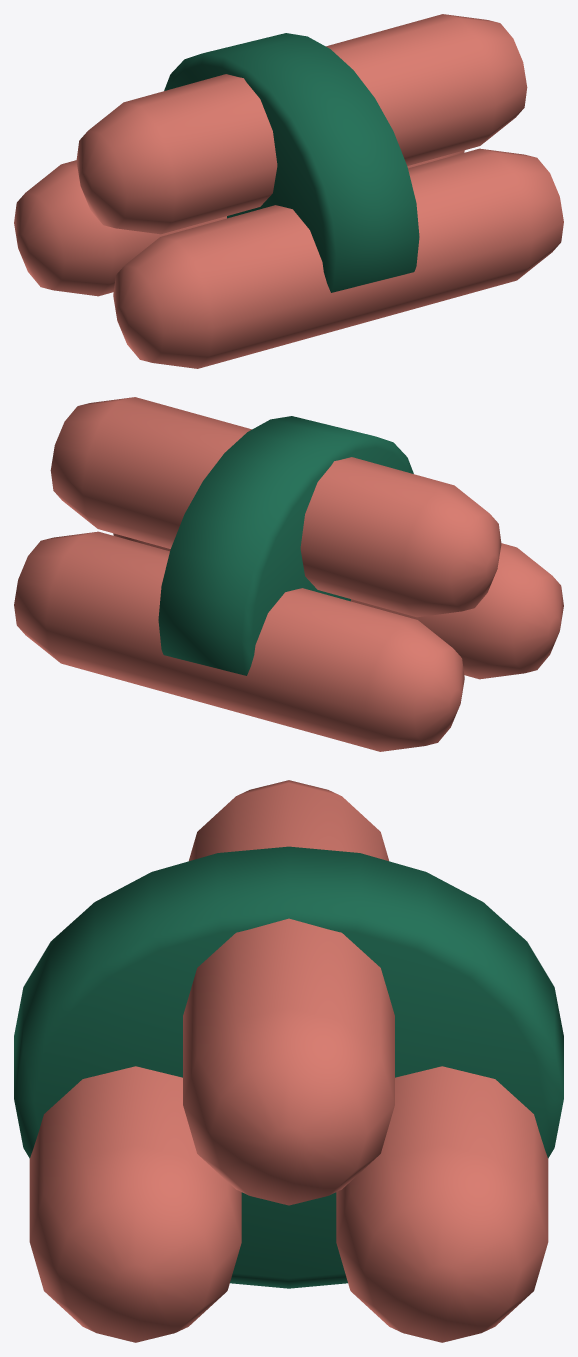
File: sausage.glb
3 views of the same model, one above another, from view 1: azimuth 30°, elevation 25°; view 2: azimuth 150°, elevation 25°; view 3: azimuth 270°, elevation 25° (orthographic). The views are drawn at different scales.
Visible parts, largest first — view 1: sausage; view 2: sausage; view 3: sausage.
Part boxes in pixels (x1,y1,x2,y2): sausage: (14, 14, 563, 368); sausage: (14, 397, 563, 751); sausage: (14, 780, 563, 1342).
Size of the model in its own units: 0.6226 by 0.3279 by 0.4307.
